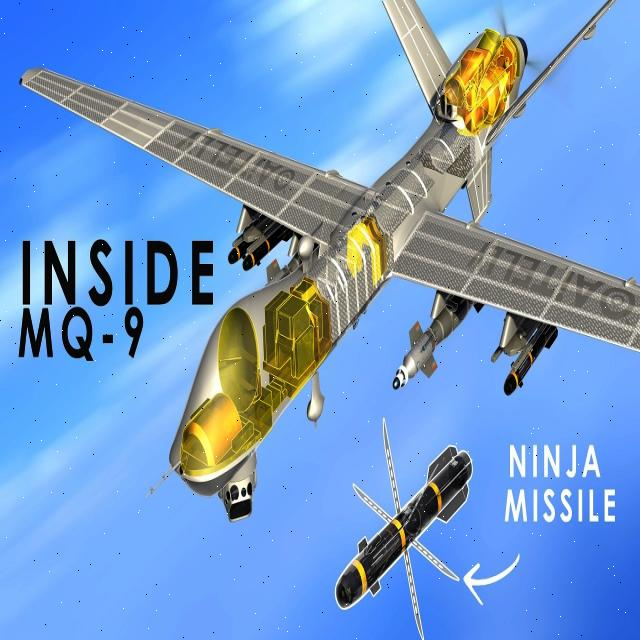MQ9: (23, 39, 640, 582)
